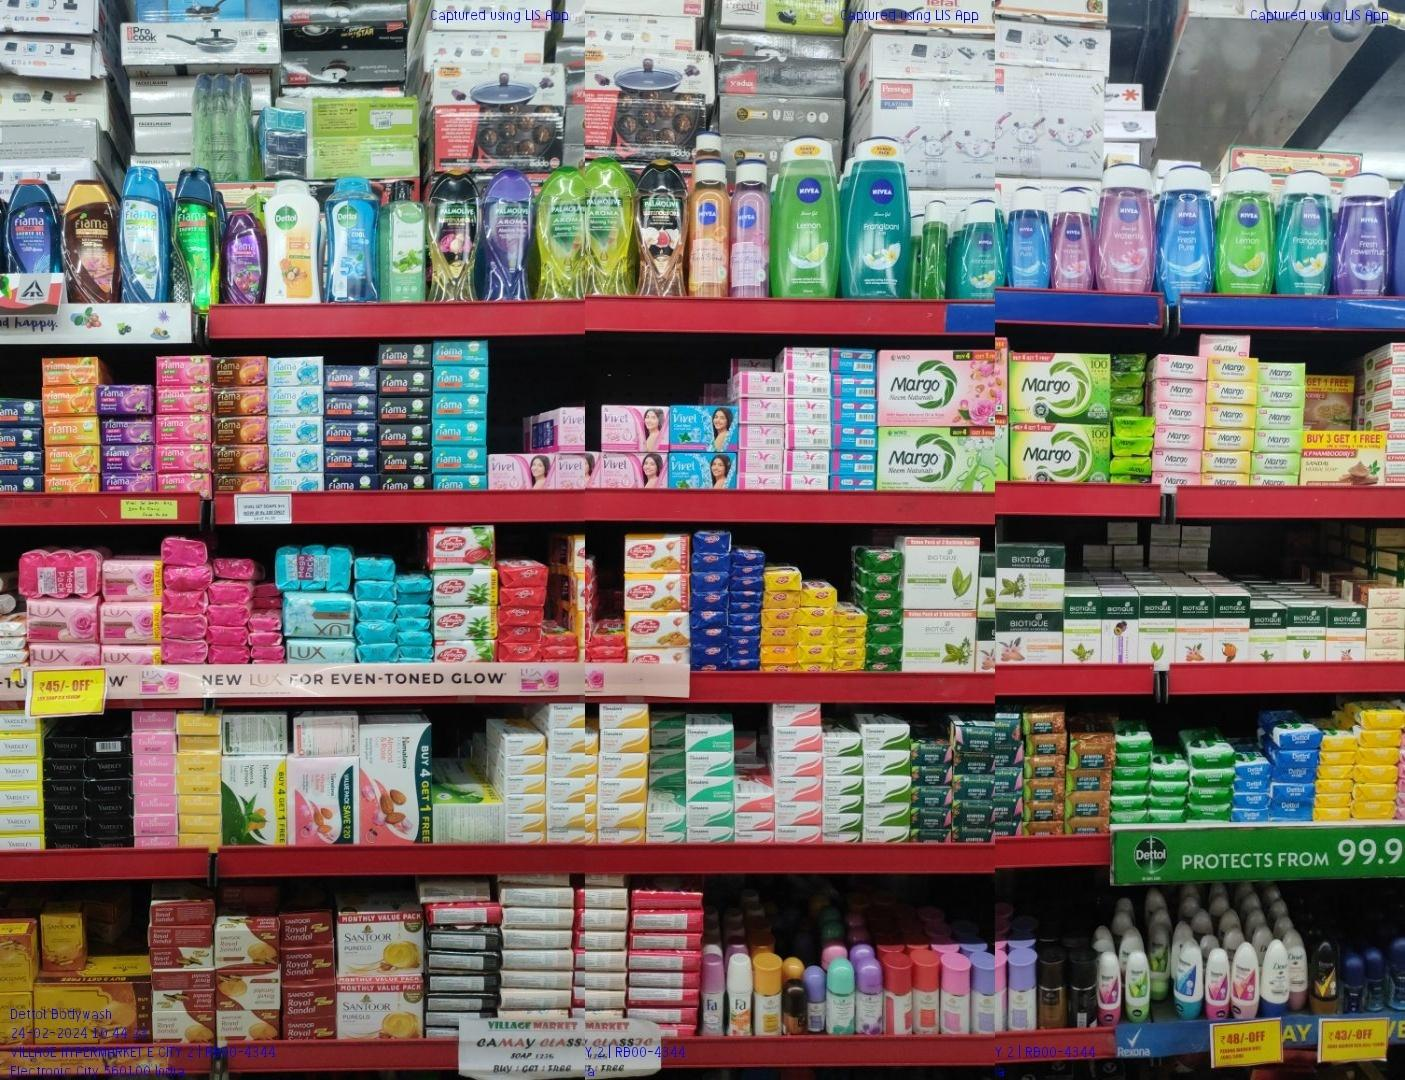Dettol_Bodywash_Cool: (323, 178, 380, 302)
Dettol_Nourish_Body_Wash_250ML: (262, 180, 320, 303)
Nivea_Shower_Gel_Frangipani_and_Oil_250ML: (959, 204, 1004, 298)
Nivea_Shower_Gel_Waterlily_and_Oil_250ML: (1055, 189, 1094, 292)
Palmolive_Aroma_Moments_Feel_The_Massage_Shower_Gel_250ML: (483, 172, 534, 301)
Palmolive_Aroma_Morning_Tonic_Shower_Gel_250ML: (586, 167, 636, 298), (538, 175, 587, 298)
Palmolive_Luminous_Oils_Invigorating_Macadamia_Oil_With_Peony_250ML: (425, 176, 477, 299)
Palmolive_Luminous_Oils_With_White_Orchid_Shower_Gel_250ML: (635, 164, 685, 298)
